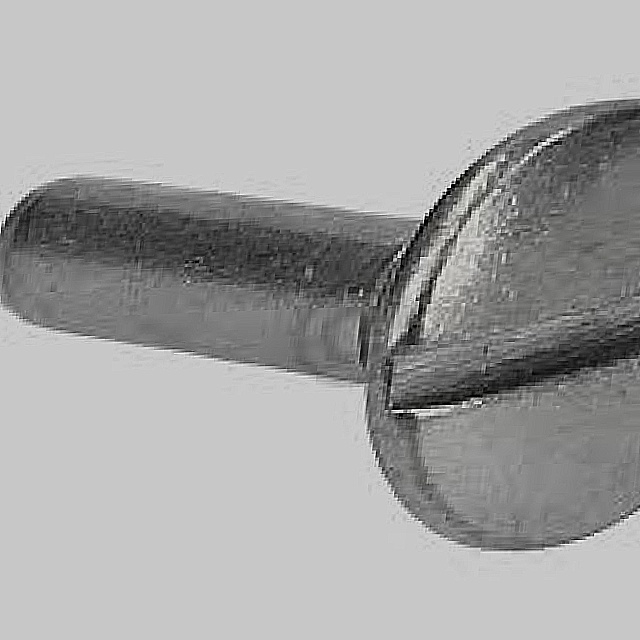duz: (350, 84, 640, 552)
